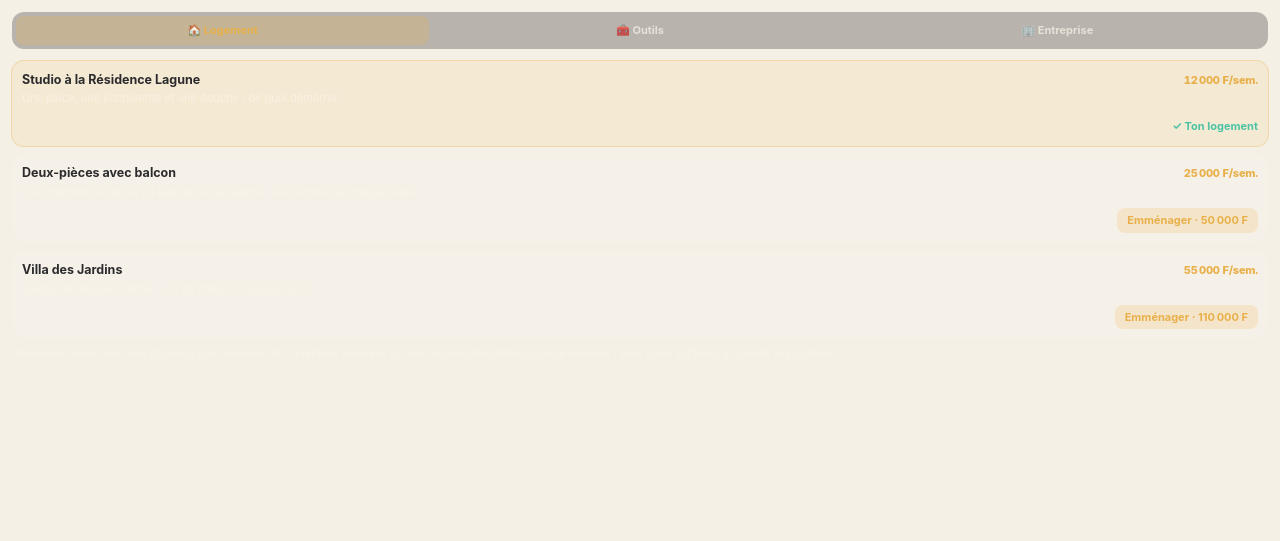
Test case: le patrimoine dans le téléphone (démonstration) › achète un outil, emménage dans un logement plus grand et refuse ce qui est trop cher
Step 1. Click the button "Emménager · 50 000 F" → (1188, 221), box [1117,208,1258,233]
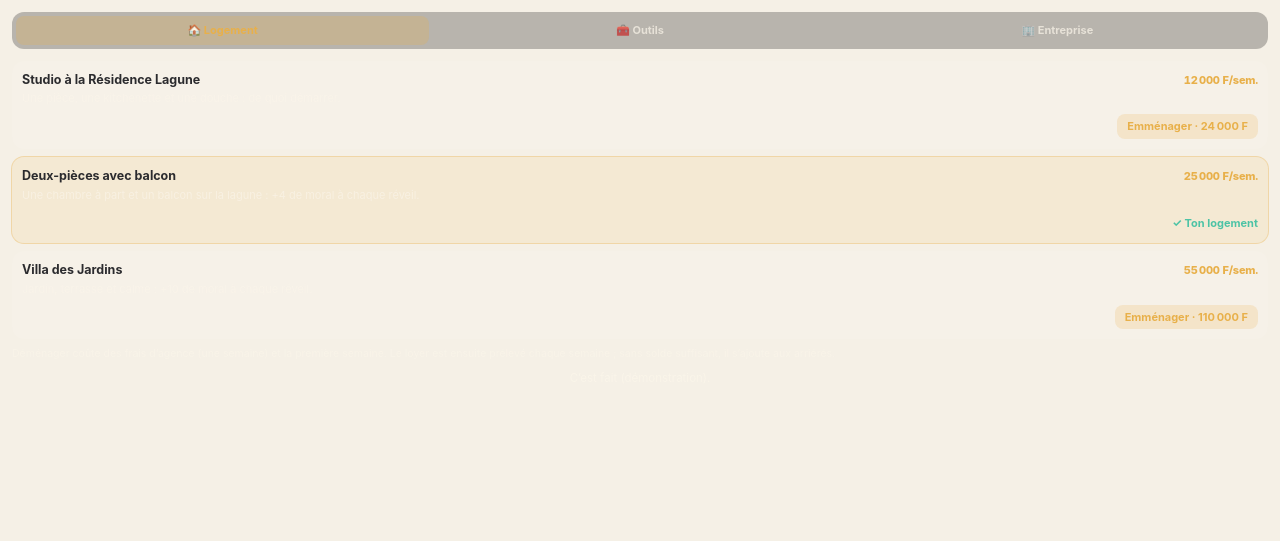
Check: the text "✓ Ton logement" is shown, box [1172,216,1258,230]
Step 2. Click the button "🧰 Outils" → (640, 30), box [433,16,847,44]
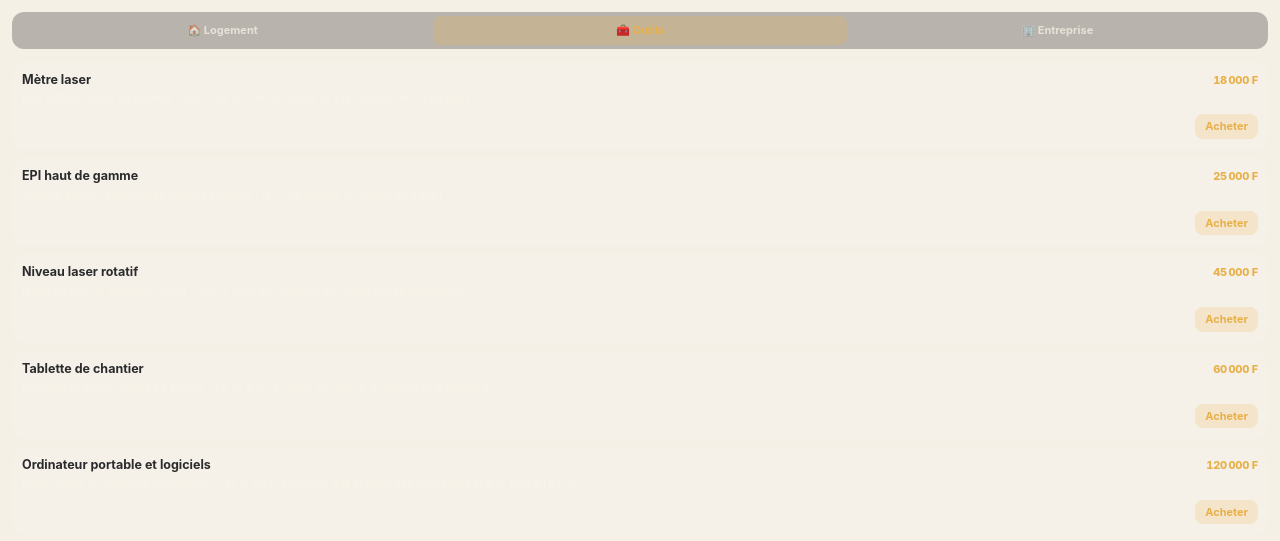
Step 3. Click the button "Acheter" below "18 000 F" → (1227, 127), box [1195,114,1258,139]
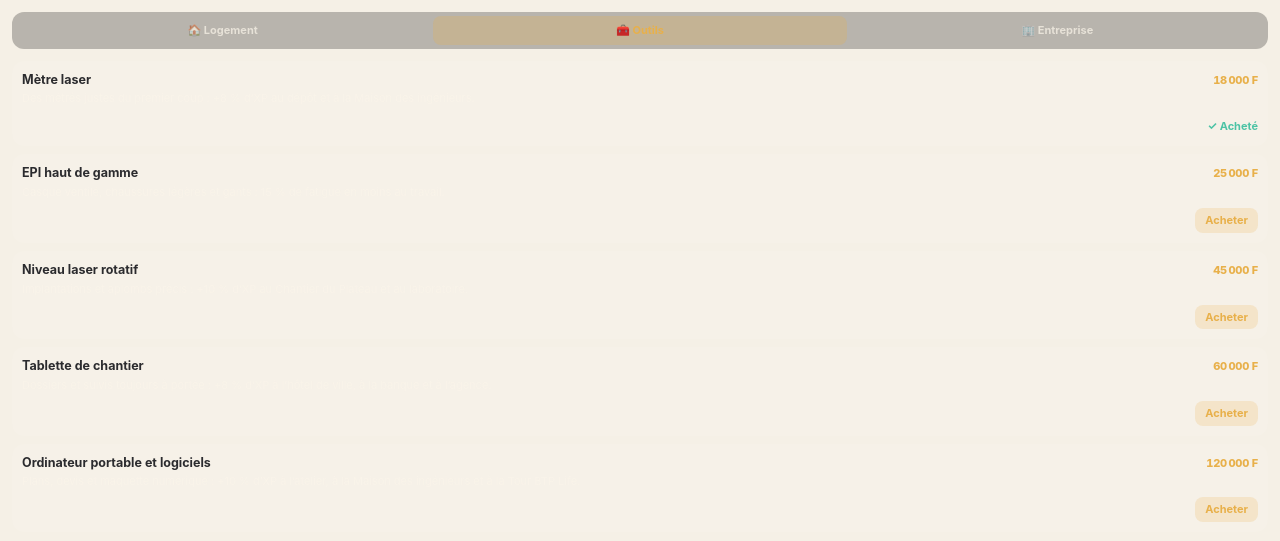
Check: the text "✓ Acheté" is shown, box [1207,119,1258,133]
